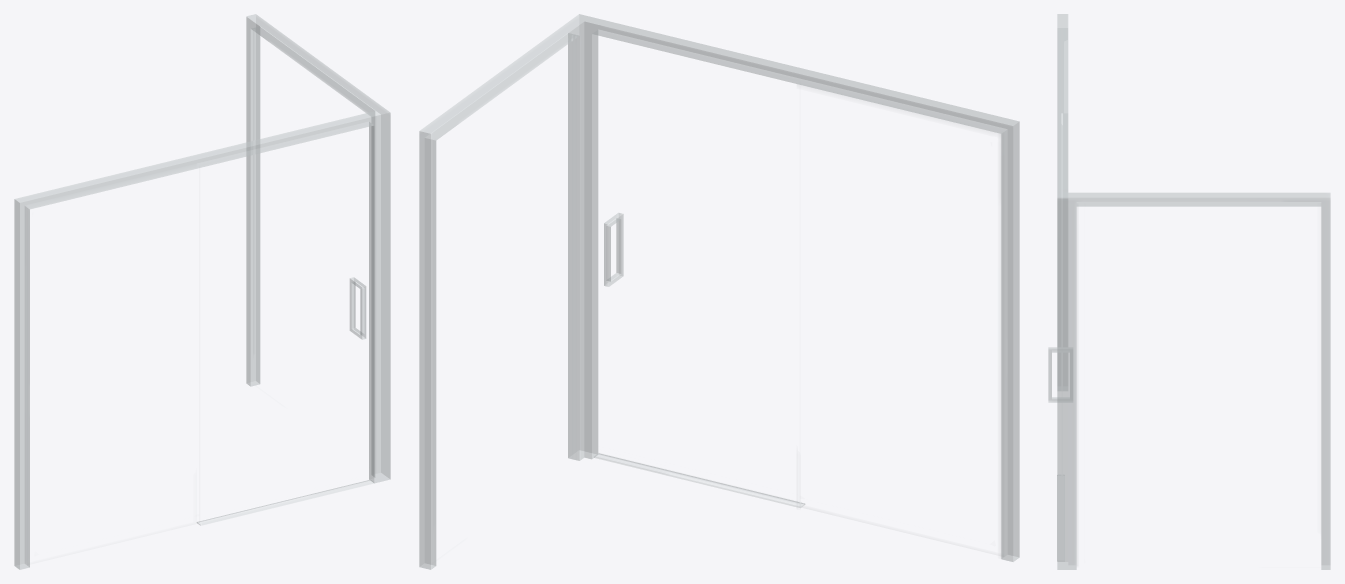
Rendered from shower-enclosure.gltf.
3 renders of one model, left to right at view 1: azimuth 30°, elevation 25°; view 2: azimuth 150°, elevation 25°; view 3: azimuth 270°, elevation 25°, orthographic. The views are drawn at different scales.
Visible parts, largest first — view 1: Walk_in_Shower.001; view 2: Walk_in_Shower.001; view 3: Walk_in_Shower.001.
Part boxes in pixels (x1,y1,x2,y2): Walk_in_Shower.001: (14, 14, 390, 569); Walk_in_Shower.001: (419, 14, 1019, 569); Walk_in_Shower.001: (1048, 14, 1330, 569).
Size of the model in its own units: 2.17 by 2.06 by 1.41.
1 material, 1 textured.
